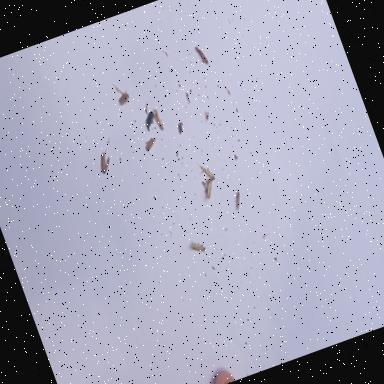pbw: (112, 80, 133, 108), (96, 150, 116, 176), (199, 161, 216, 184), (195, 44, 210, 68), (202, 180, 219, 201), (152, 110, 167, 133), (143, 136, 161, 154), (190, 238, 207, 256), (231, 190, 245, 210)
